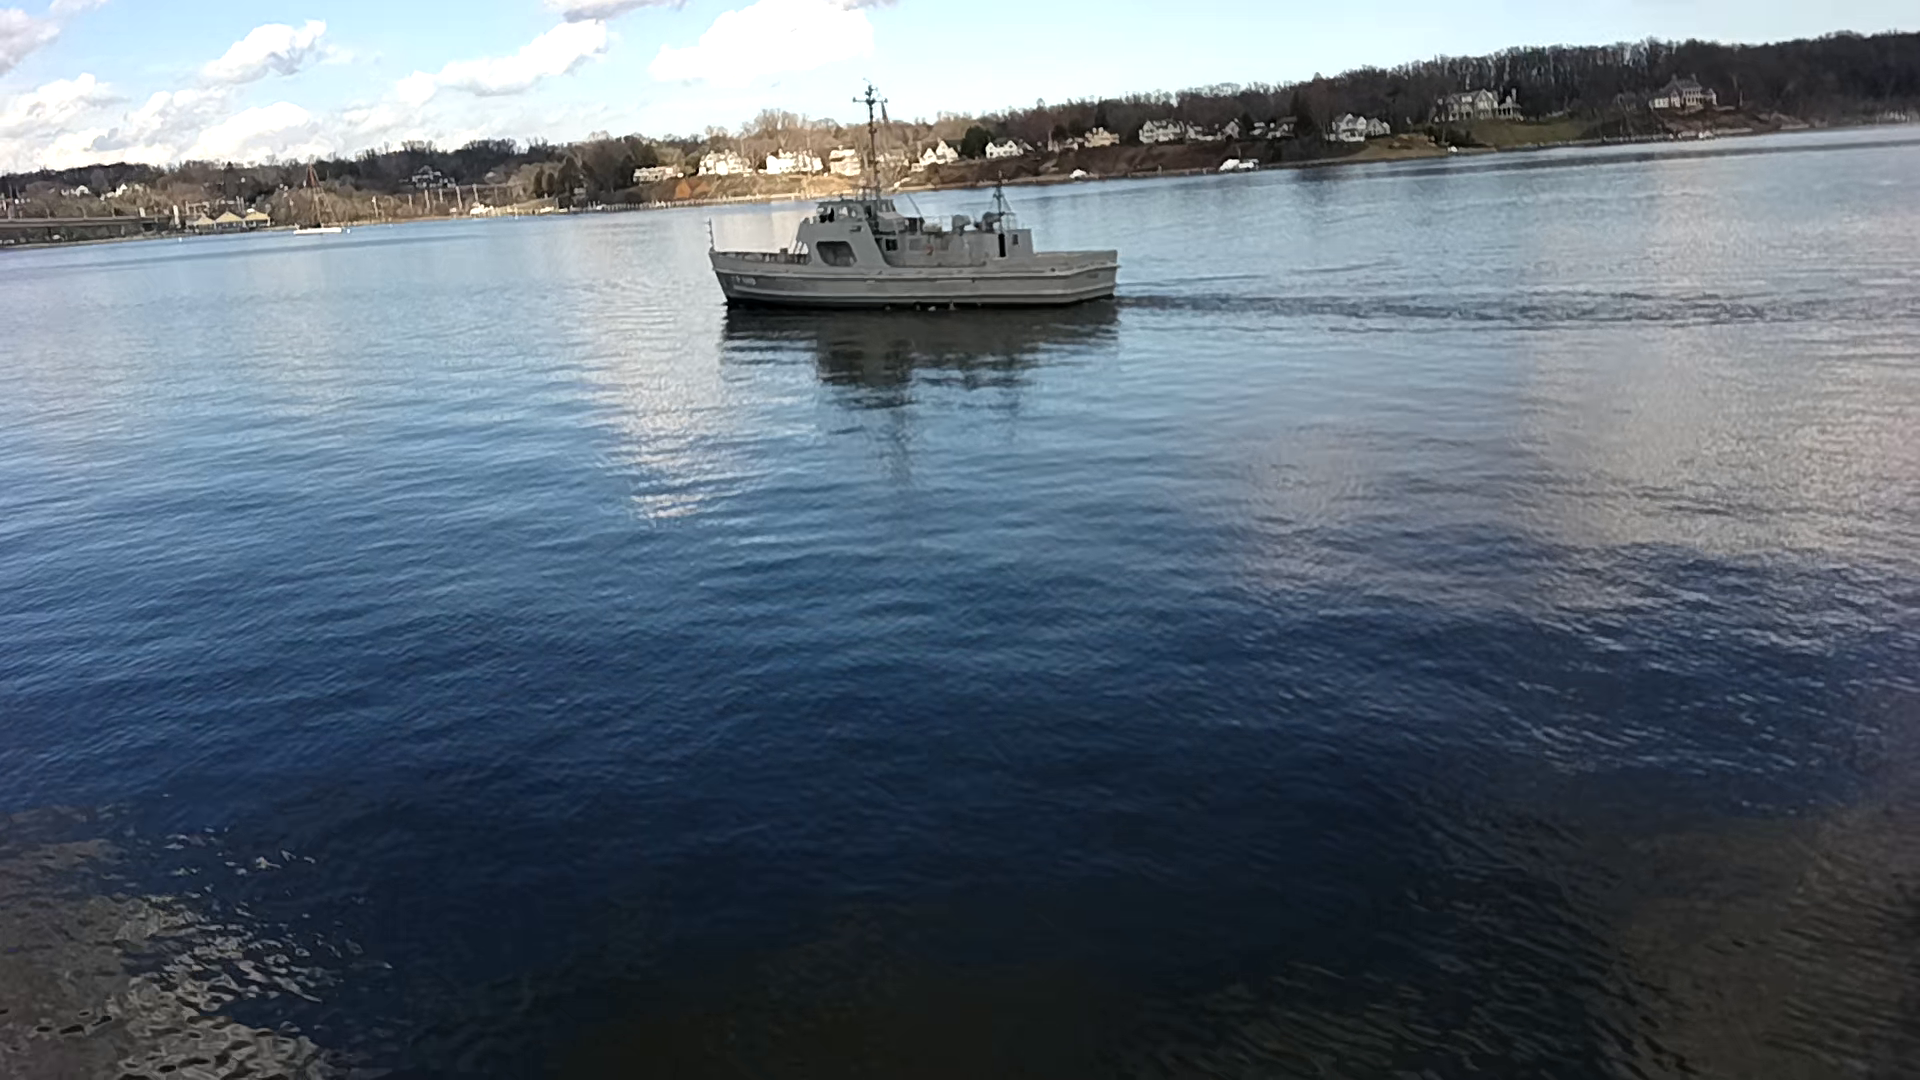YP689: (707, 83, 1120, 313)
